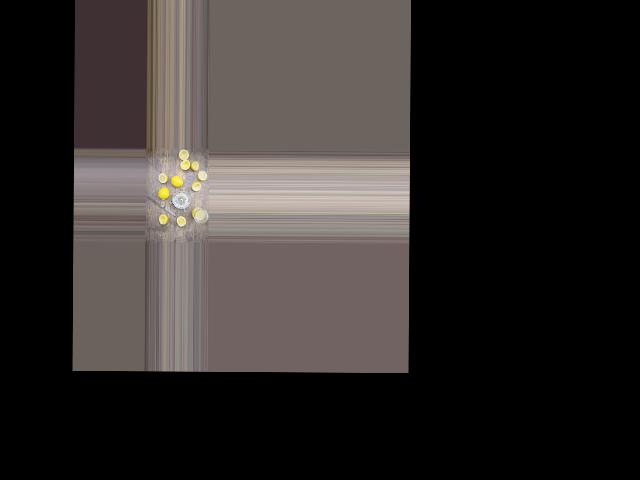lemon: (158, 182, 170, 199)
